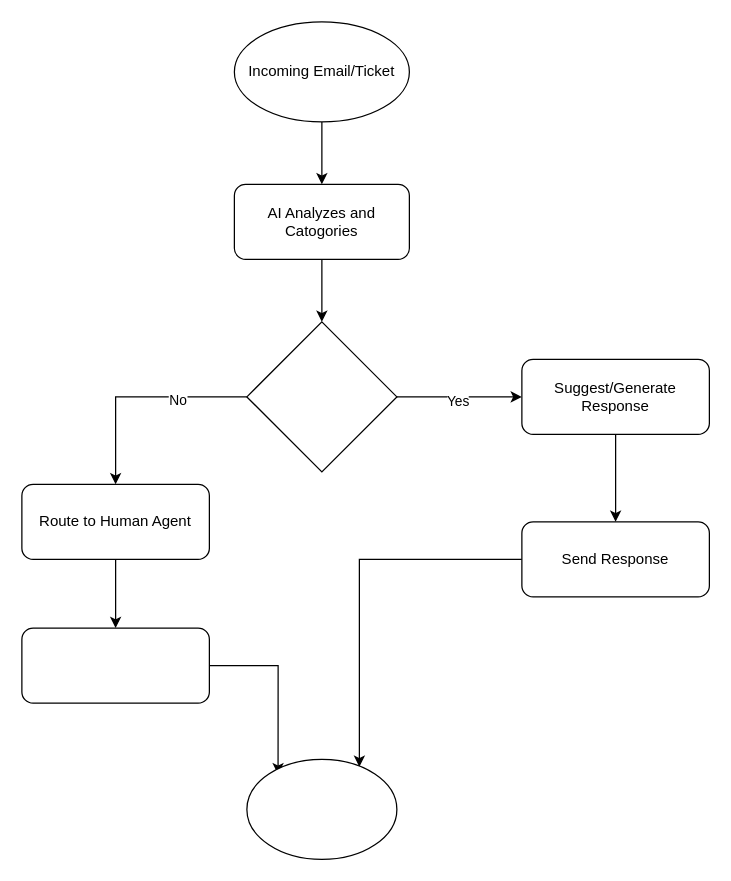
The diagram is 731 pixels wide and 881 high, and some of its shapes have lost their labels. The shapes that lost their labels are listed below. From the top down, each one's centre as x and y in pixels, then its label:
(x=321, y=396): Common Query?
(x=115, y=665): Human Handles Issue
(x=321, y=808): End
